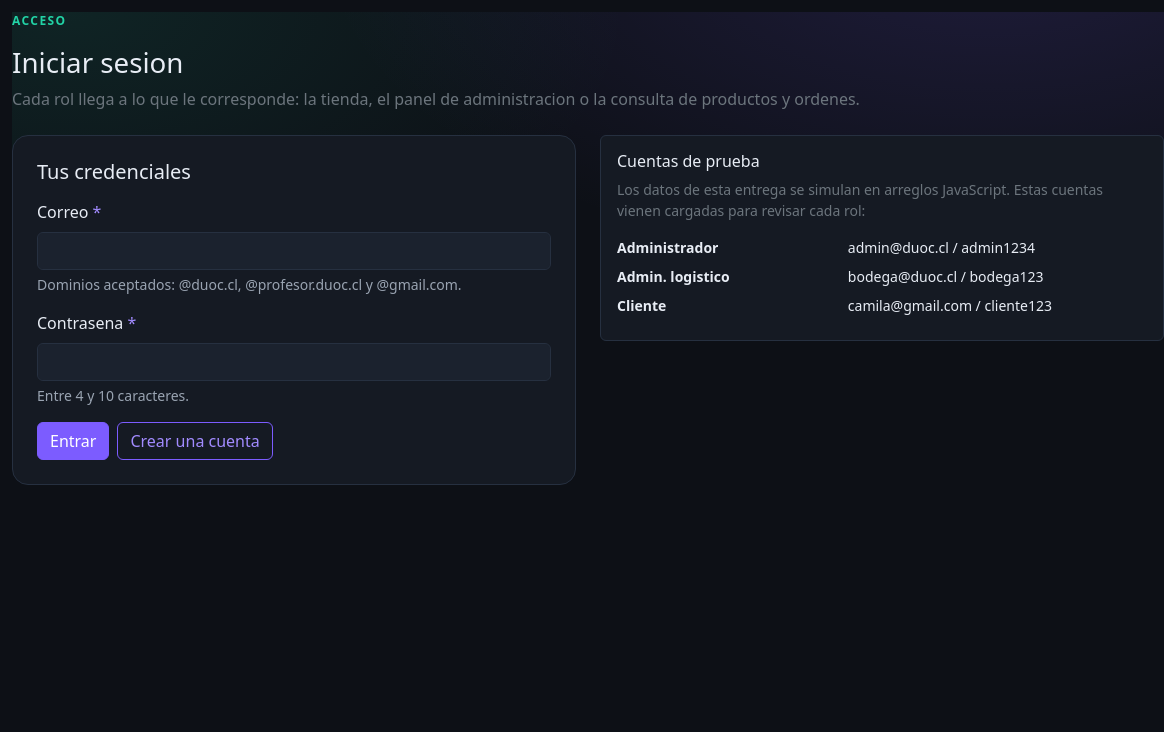
Test: Login › unas credenciales incorrectas muestran un aviso generico
Type "admin@duoc.cl" into the field labelled "Correo *" at (294, 251), box [37,232,551,270]
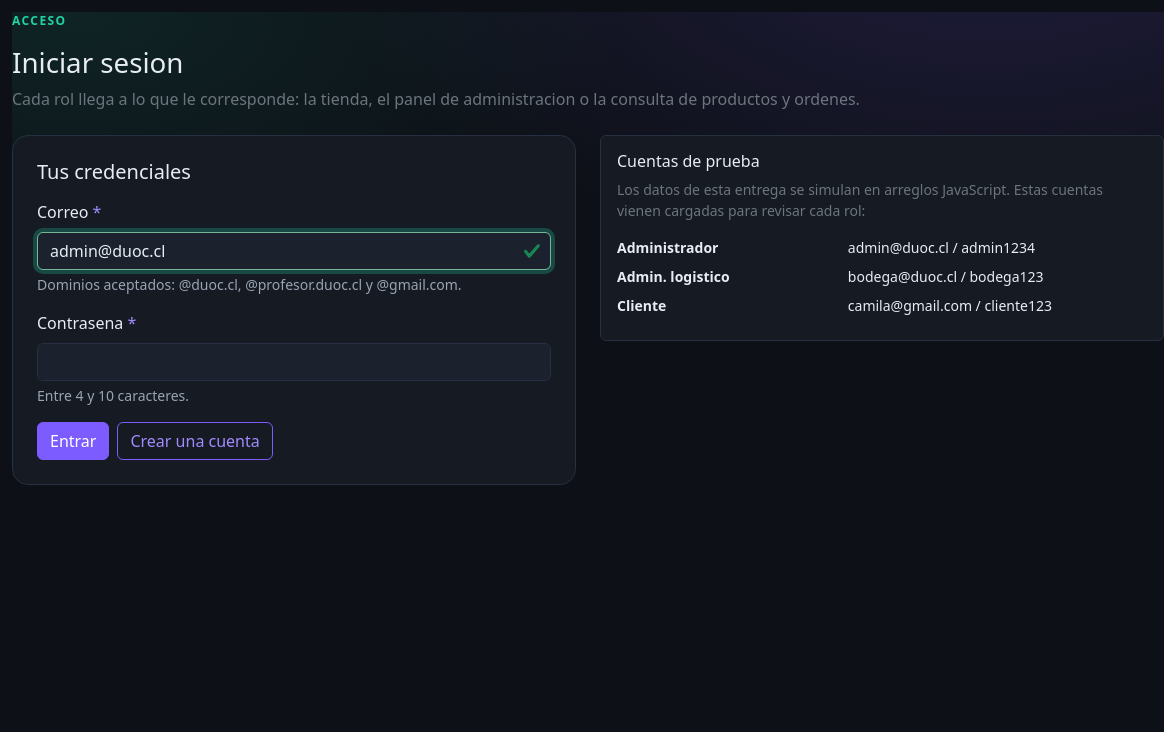
Type "mala1234" into the password field labelled "Contrasena *" at (294, 362), box [37,343,551,381]
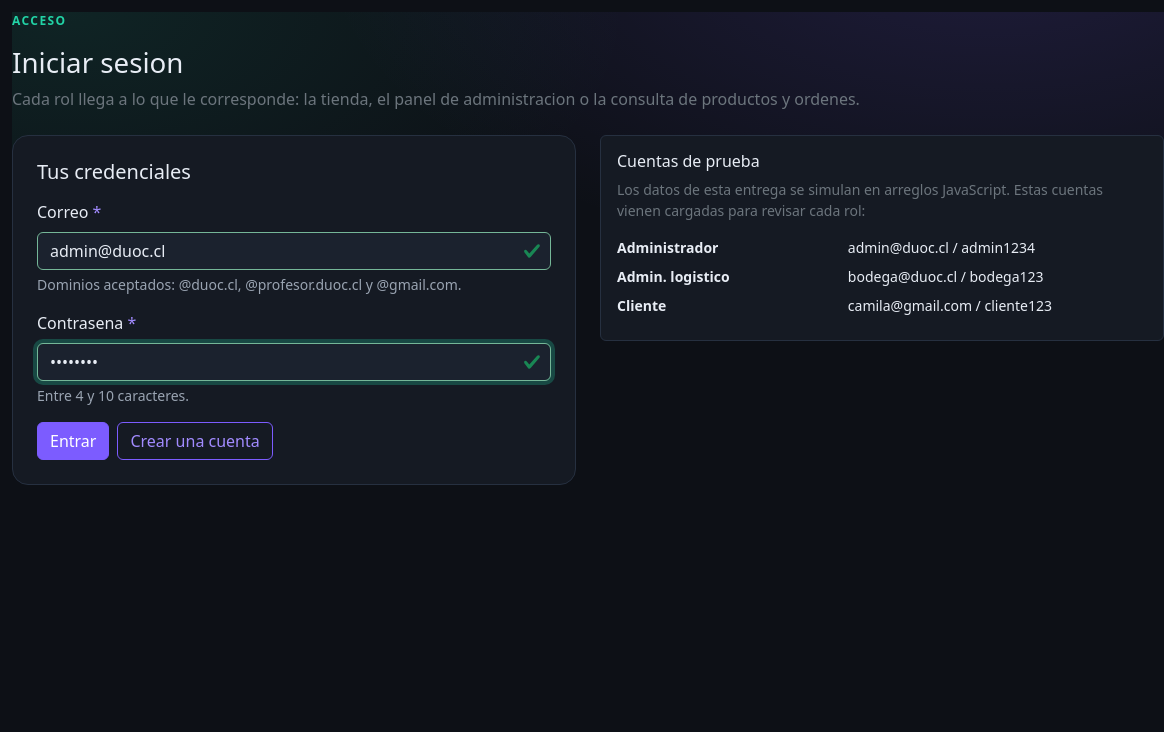
Click the button "Entrar" at (73, 441), box [37,422,109,460]
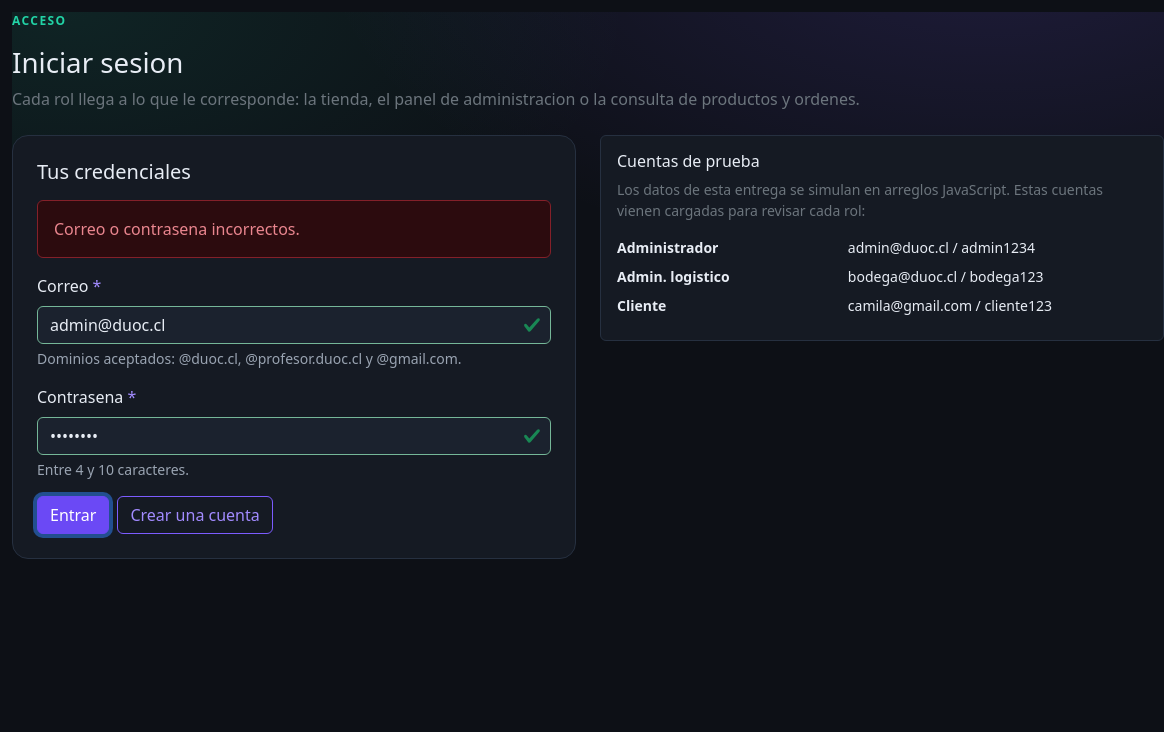
Expected: the message reads "Correo o contrasena incorrectos.", [54,218,300,240]
